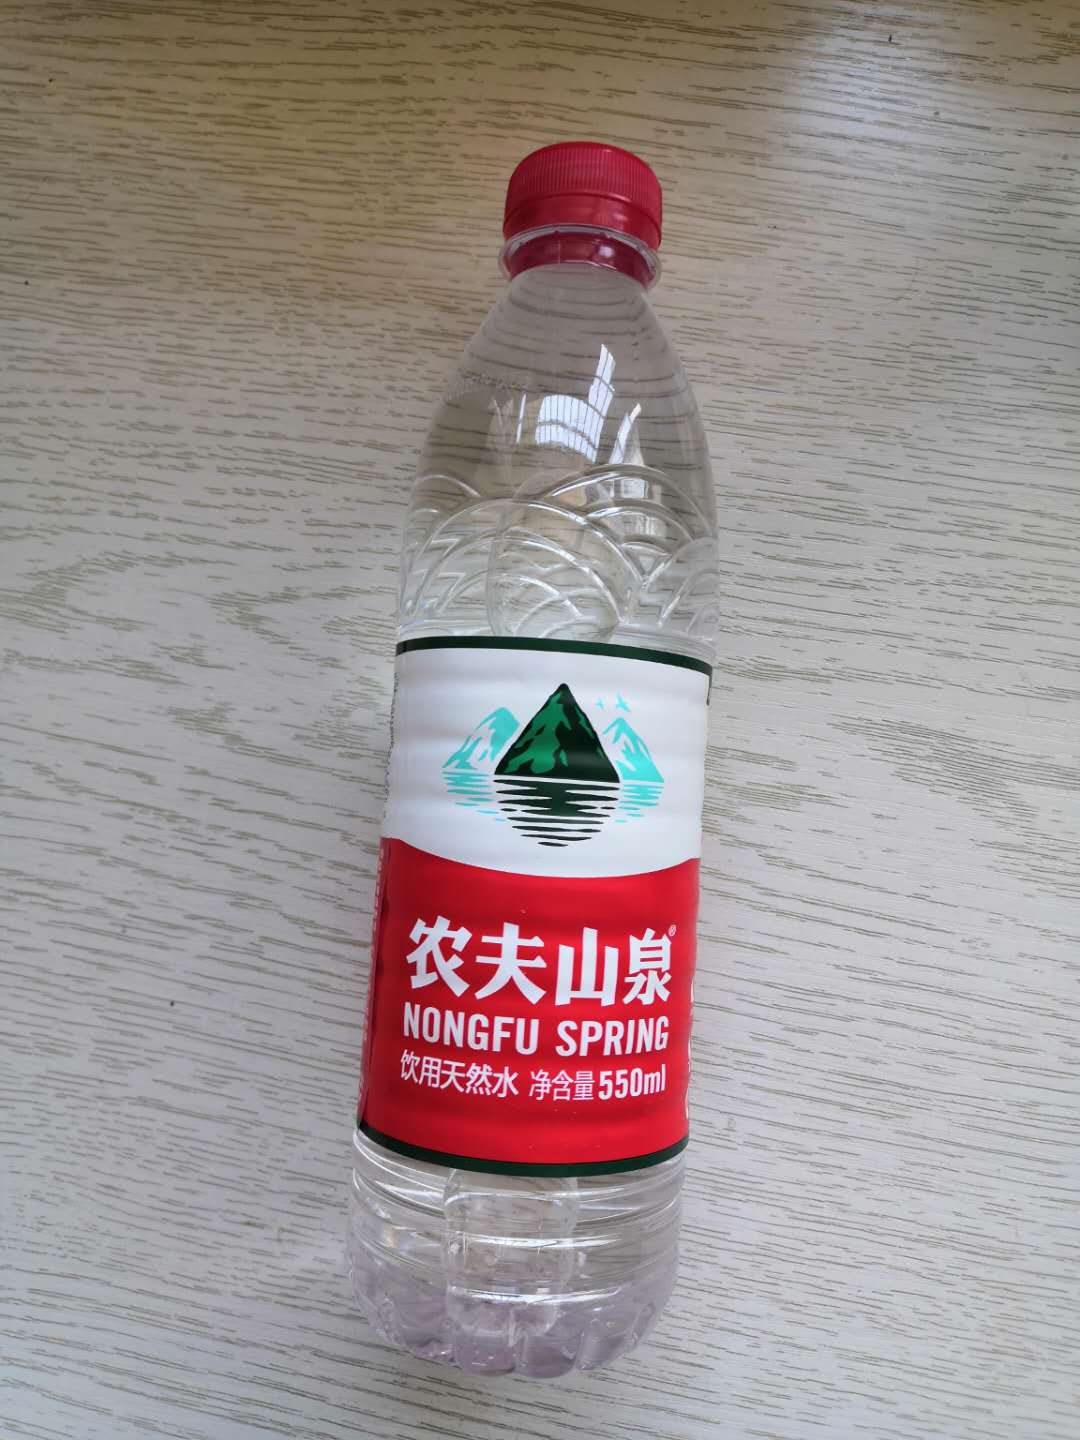农夫山泉: (366, 150, 704, 1380)
